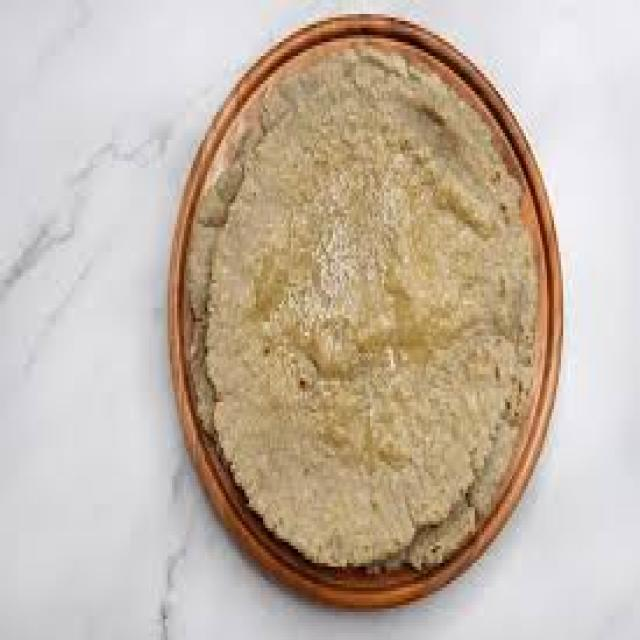DOSA: (200, 31, 535, 560)
